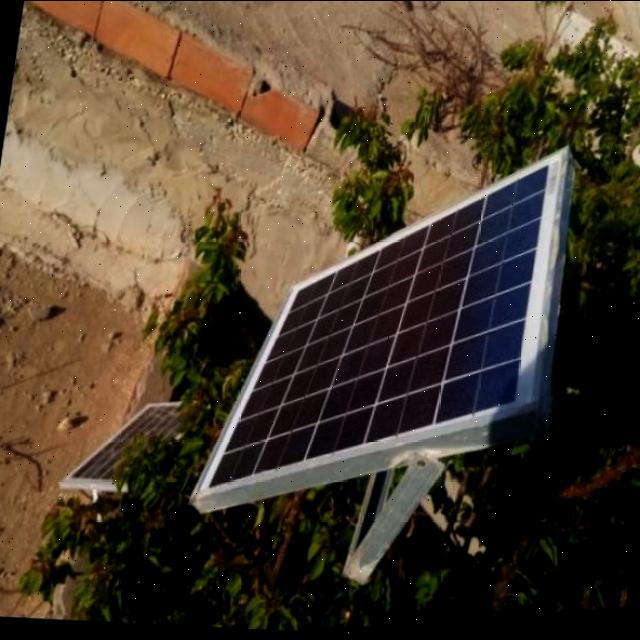Normal Solar Panel: (192, 116, 572, 538)
